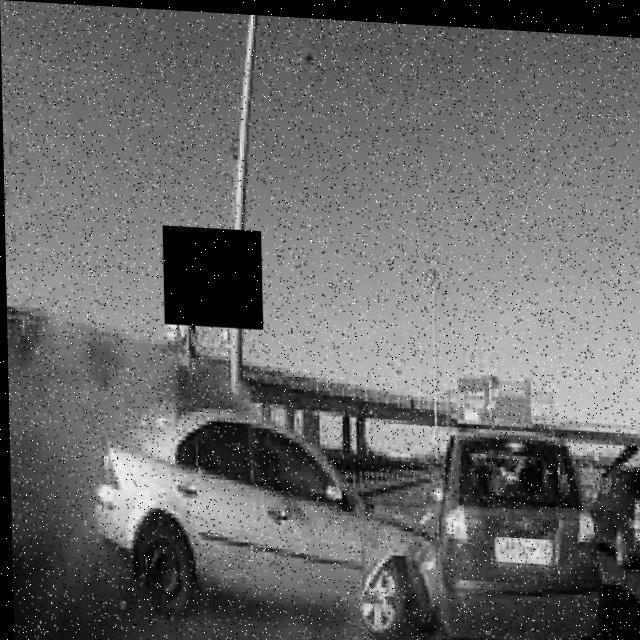multiple_accident: (26, 351, 634, 640)
